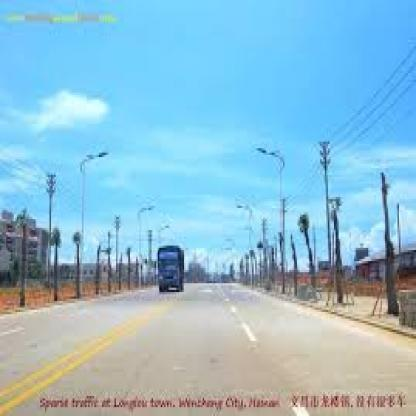car: (148, 237, 188, 299)
